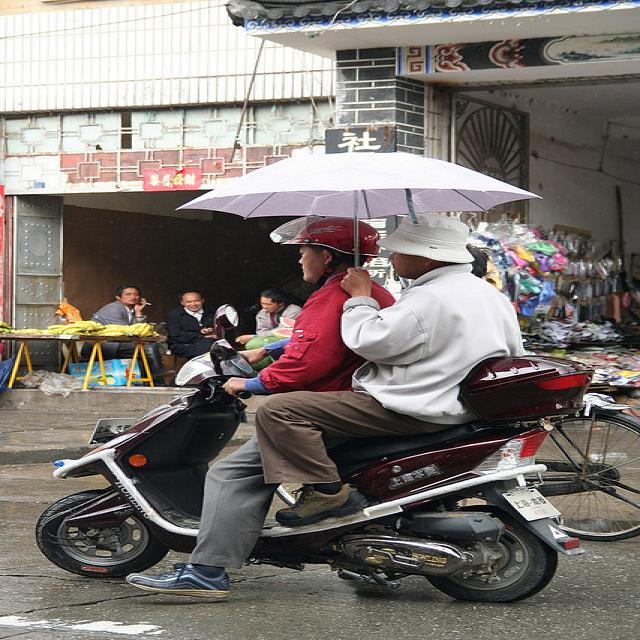motor: (28, 307, 600, 605)
